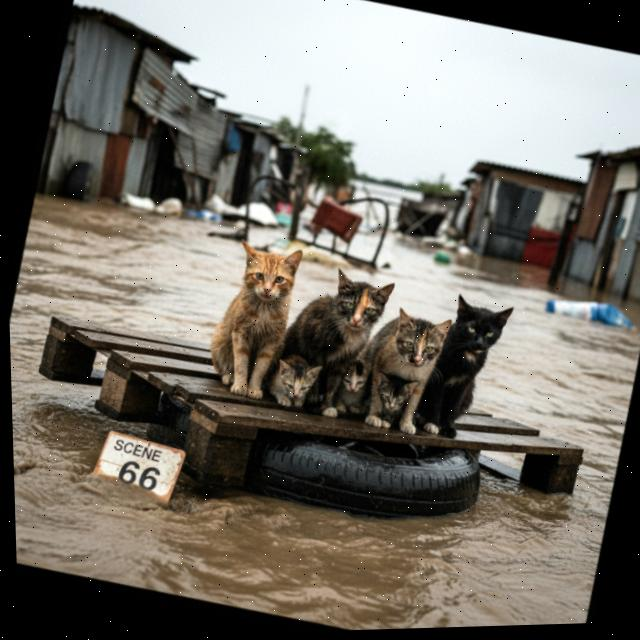cat: (259, 252, 400, 422), (185, 219, 313, 405), (411, 277, 522, 454), (344, 299, 445, 441), (360, 362, 429, 437), (258, 351, 336, 412), (323, 350, 380, 413)
